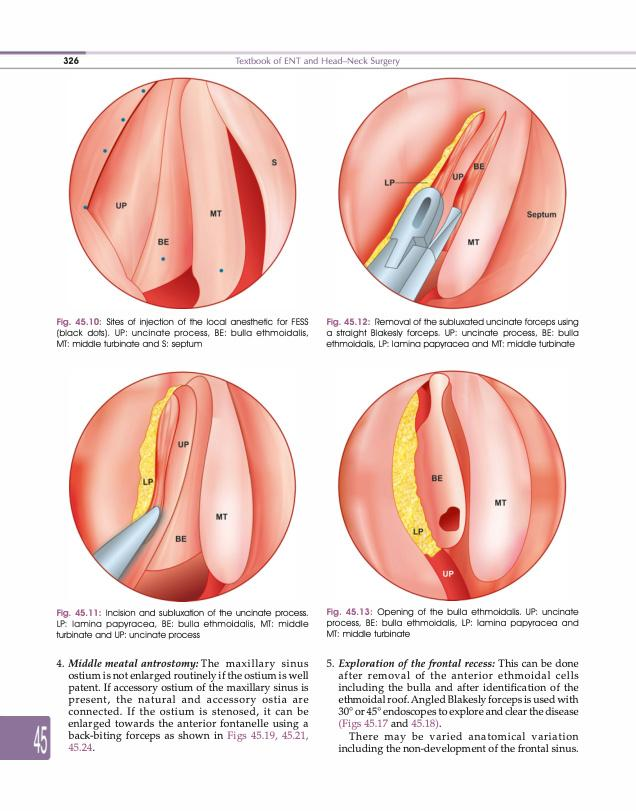caption: (55, 316, 310, 350), (325, 316, 580, 350), (55, 607, 310, 641), (325, 606, 580, 639)
header: (234, 56, 400, 67)
image: (54, 361, 310, 606), (323, 360, 579, 604), (54, 71, 308, 314), (325, 71, 579, 314)
sub-section-heading: (337, 657, 496, 670), (67, 657, 199, 670)
text: (325, 656, 579, 755), (55, 657, 311, 754)
